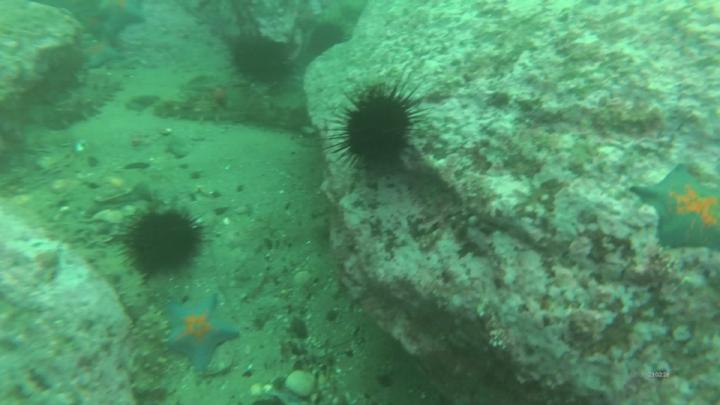echinus: (346, 91, 412, 162), (129, 213, 202, 274), (235, 39, 289, 83), (313, 27, 343, 51)
holothurian: (43, 81, 124, 132), (157, 99, 233, 123)
scallop: (108, 211, 124, 226), (76, 139, 88, 155)
starfish: (631, 165, 720, 250), (163, 294, 240, 375)
